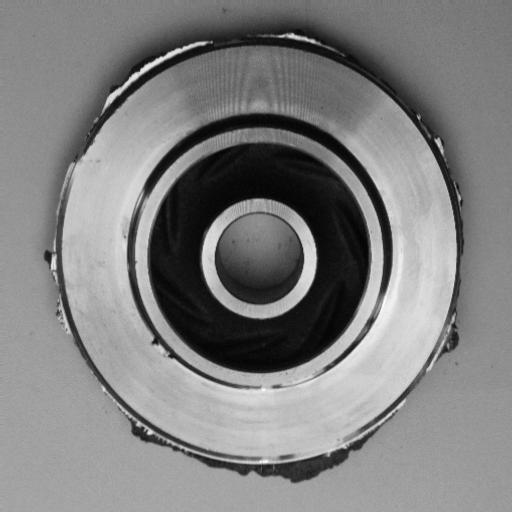casting_with_burr: (42, 25, 469, 487)
scratch: (244, 366, 328, 397), (143, 330, 183, 369)
